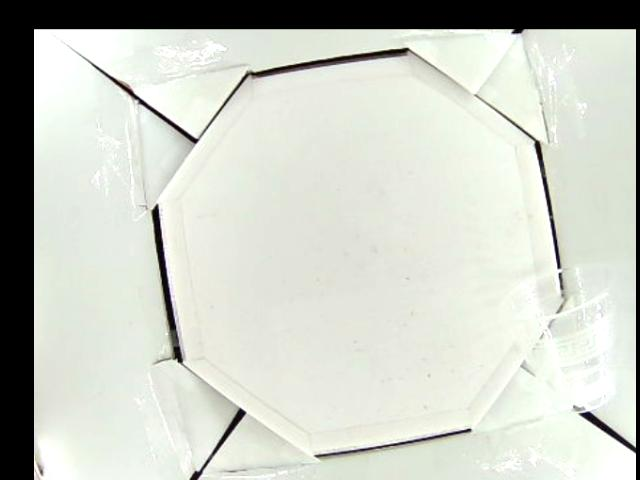Cup: (505, 261, 618, 415)
